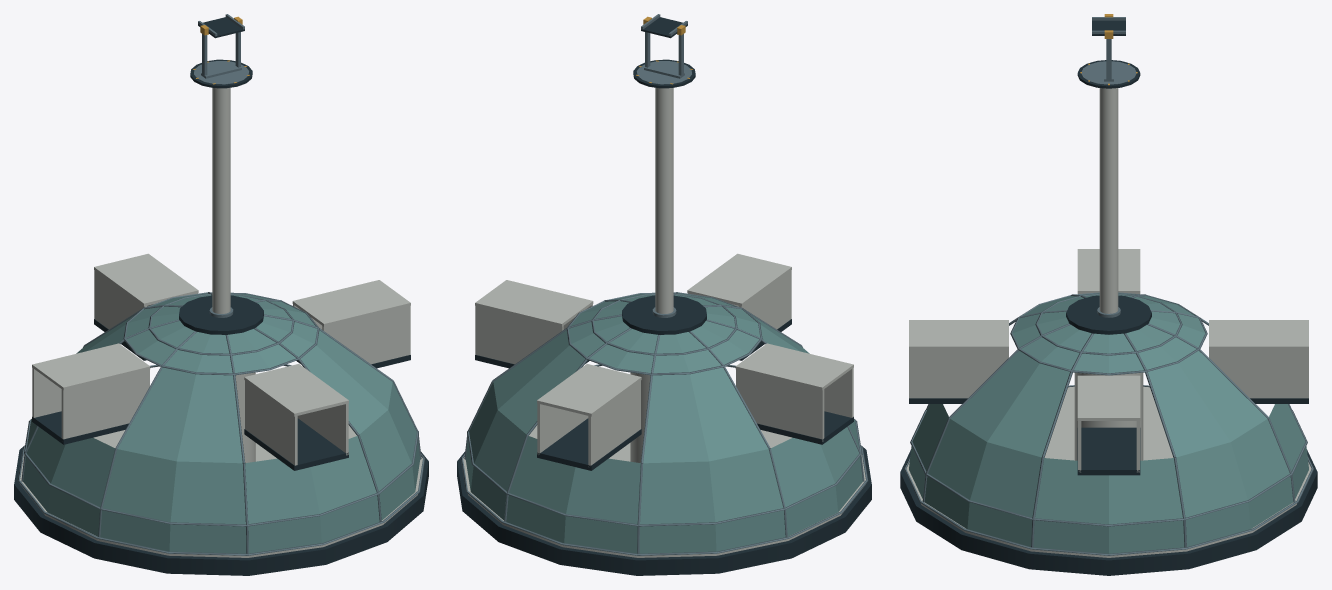
The model's file is biosphere_d0_lod2.glb.
The picture shows the model from 3 angles, left to right: view 1: azimuth 30°, elevation 25°; view 2: azimuth 150°, elevation 25°; view 3: azimuth 270°, elevation 25°; orthographic projection.
Parts seen in each view (by area): view 1: BODY; view 2: BODY; view 3: BODY.
Boxes of the visible parts, left/top/right/bottom form: BODY: left=14, top=14, right=428, bottom=575; BODY: left=457, top=14, right=871, bottom=575; BODY: left=900, top=14, right=1317, bottom=575.
Size of the model in its own units: 29.2 by 35.85 by 29.2.
